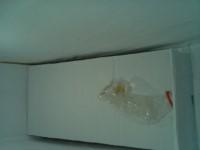bottle: (103, 64, 175, 117)
